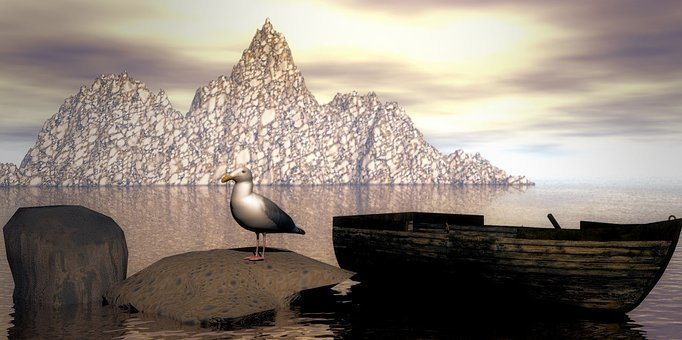bird: (214, 156, 308, 272)
boat: (322, 197, 674, 325)
